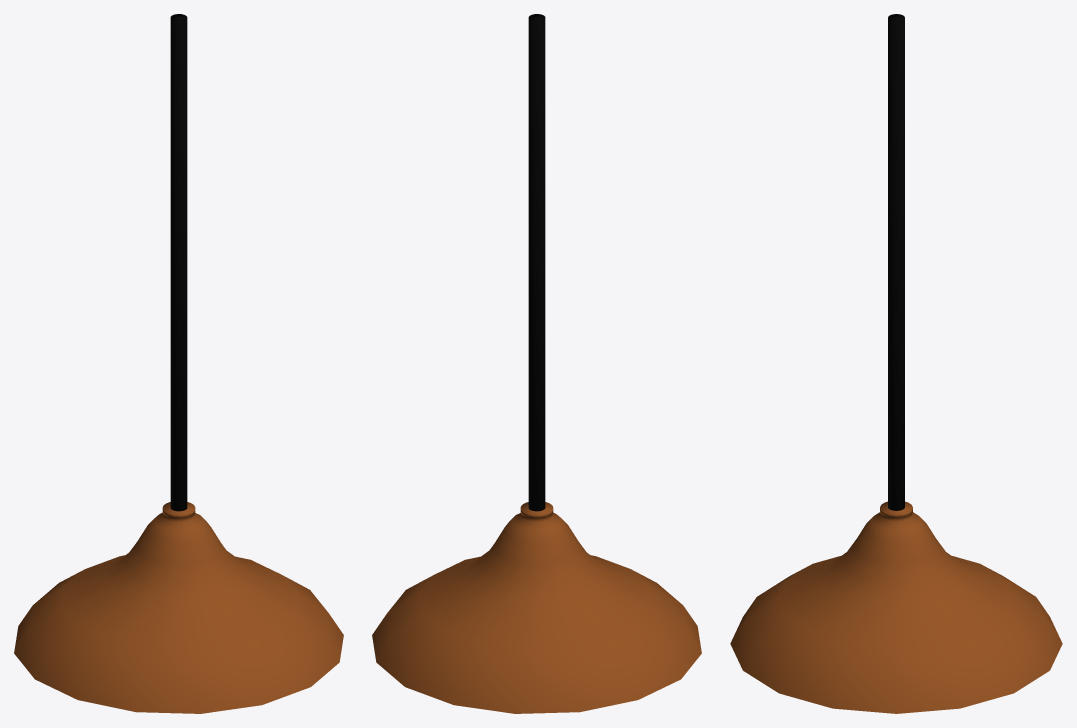
Rendered from lamp1 (2).glb.
3 views of the same model, side by side, from view 1: azimuth 30°, elevation 25°; view 2: azimuth 150°, elevation 25°; view 3: azimuth 270°, elevation 25° (orthographic).
Visible parts, largest first — view 1: Cylinder, Cylinder.001; view 2: Cylinder, Cylinder.001; view 3: Cylinder, Cylinder.001.
Part boxes in pixels (x1,y1,x2,y2): Cylinder: (14, 502, 343, 713); Cylinder.001: (170, 14, 187, 511); Cylinder: (372, 502, 701, 713); Cylinder.001: (528, 14, 545, 511); Cylinder: (730, 501, 1062, 713); Cylinder.001: (888, 14, 904, 510).
Size of the model in its own units: 1.4 by 2.92 by 1.4.
